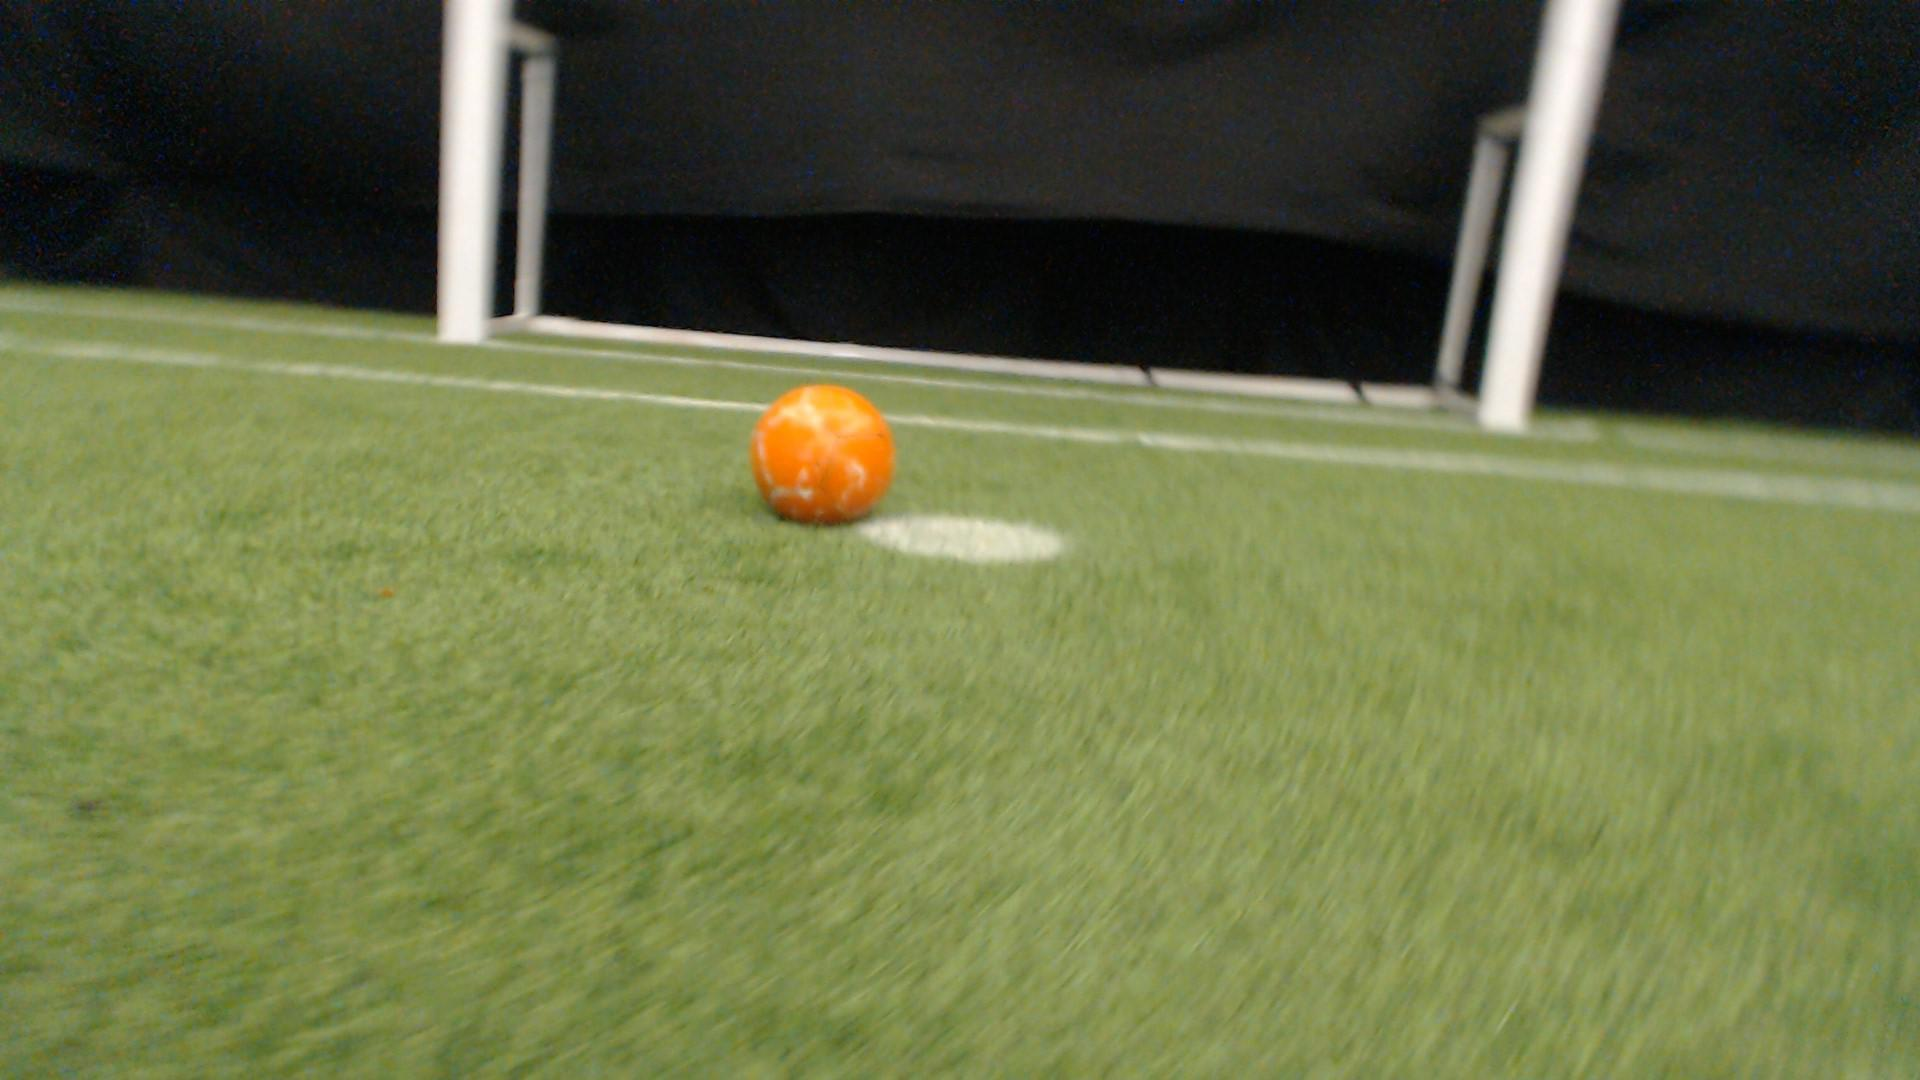bola: (745, 376, 902, 521)
